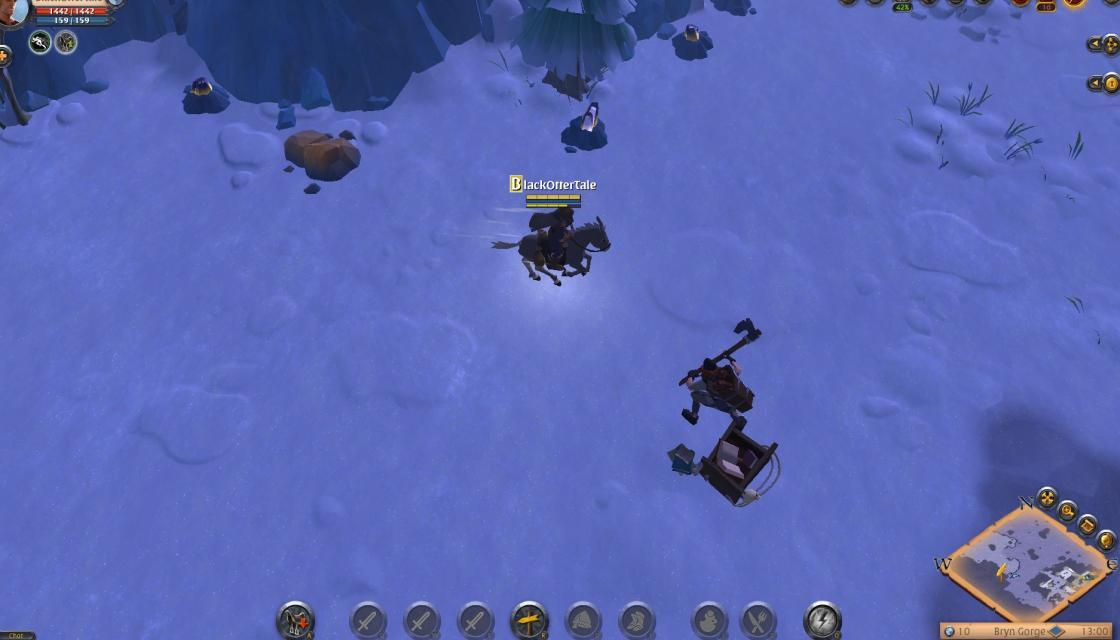copperore: (559, 101, 612, 149), (177, 74, 236, 116), (667, 22, 716, 62)
limestone: (278, 127, 366, 182)
